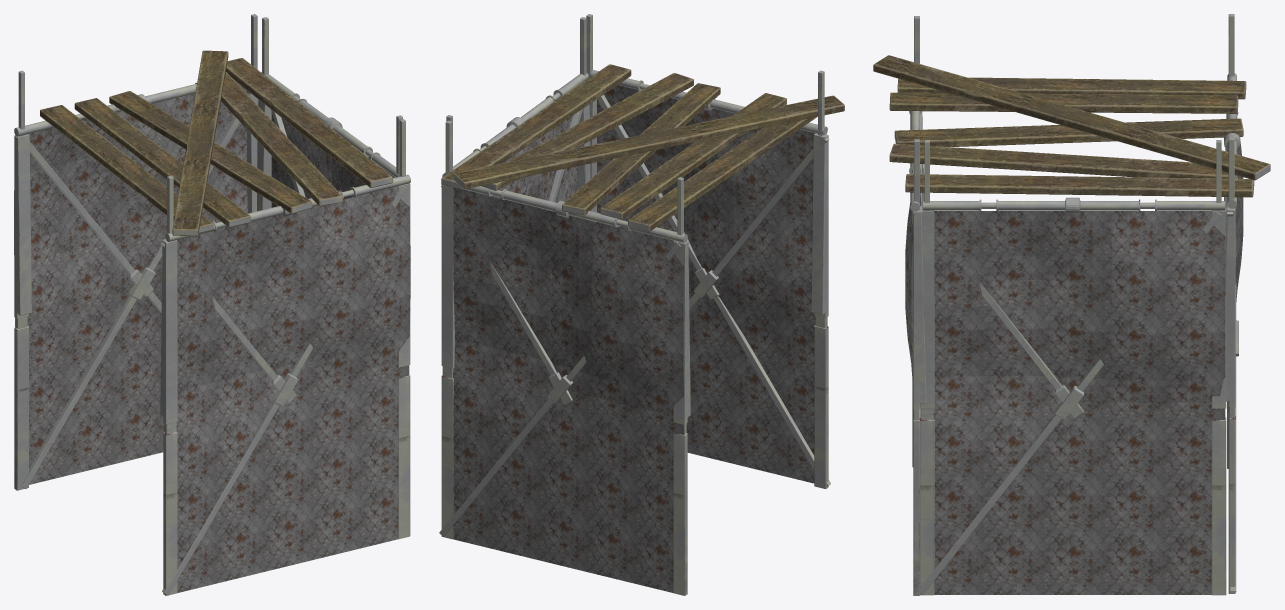
File: SM_Small_Destitute_Shop.fbx
The picture shows the model from 3 angles, left to right: view 1: azimuth 30°, elevation 25°; view 2: azimuth 150°, elevation 25°; view 3: azimuth 270°, elevation 25°; orthographic projection. The views are drawn at different scales.
Visible parts, largest first — view 1: SM_Small_Destitute_Shop_LOD0; view 2: SM_Small_Destitute_Shop_LOD0; view 3: SM_Small_Destitute_Shop_LOD0.
Part boxes in pixels (left/top/right/bottom): SM_Small_Destitute_Shop_LOD0: left=14, top=14, right=410, bottom=595; SM_Small_Destitute_Shop_LOD0: left=439, top=14, right=844, bottom=595; SM_Small_Destitute_Shop_LOD0: left=873, top=14, right=1270, bottom=595.
Size of the model in its own units: 211 by 263 by 330.
2 materials, 2 textured.
